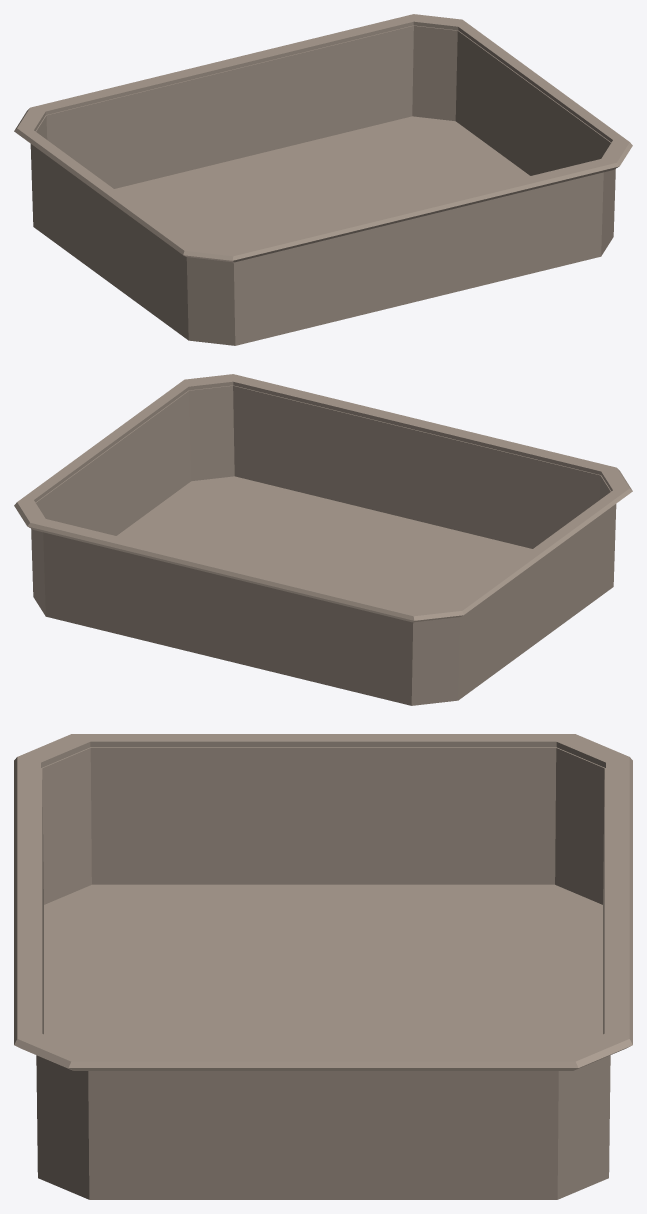
Rendered from SM_Cook_SteelTray_01.fbx.
The picture shows the model from 3 angles, top to bottom: view 1: azimuth 30°, elevation 25°; view 2: azimuth 150°, elevation 25°; view 3: azimuth 270°, elevation 25°; orthographic projection. The views are drawn at different scales.
Parts seen in each view (by area): view 1: SM_Cook_SteelTray_01; view 2: SM_Cook_SteelTray_01; view 3: SM_Cook_SteelTray_01.
Boxes of the visible parts, left/top/right/bottom form: SM_Cook_SteelTray_01: left=14, top=14, right=632, bottom=345; SM_Cook_SteelTray_01: left=14, top=374, right=632, bottom=705; SM_Cook_SteelTray_01: left=14, top=734, right=632, bottom=1199.
Bounding box in the file's own units: 0.3162 × 0.065 × 0.2501.
1 material, 1 textured.
